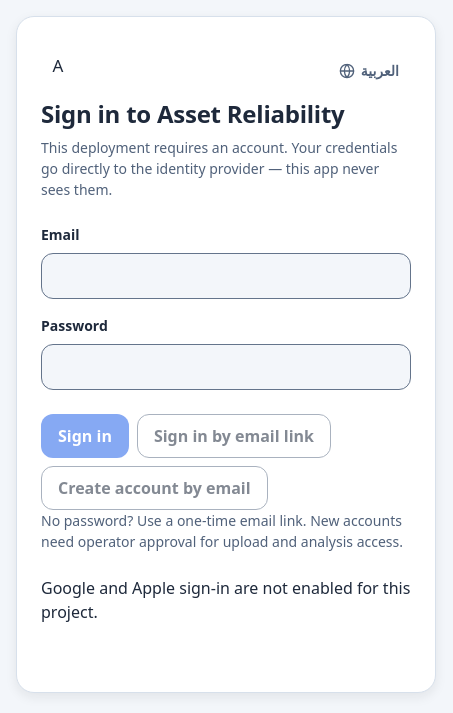
Test: managed SignIn › rejects unsuccessful responses (false)
In the field labelled "Email": [226, 276] box [41,252,411,298], type "analyst@example.com"
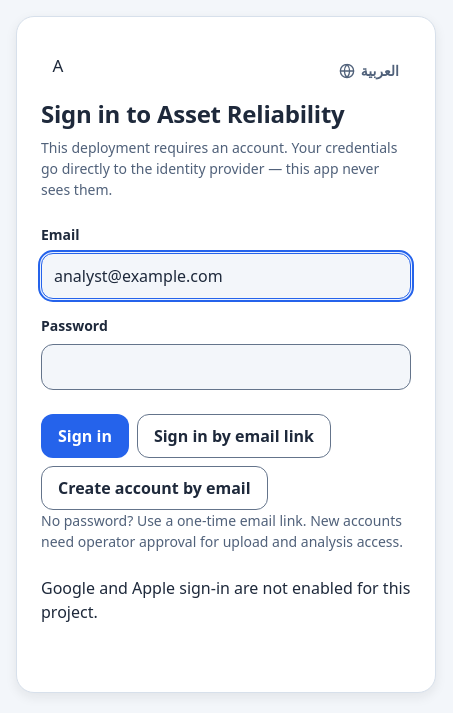
Click the button "Sign in": [85, 436] box [41,414,129,458]
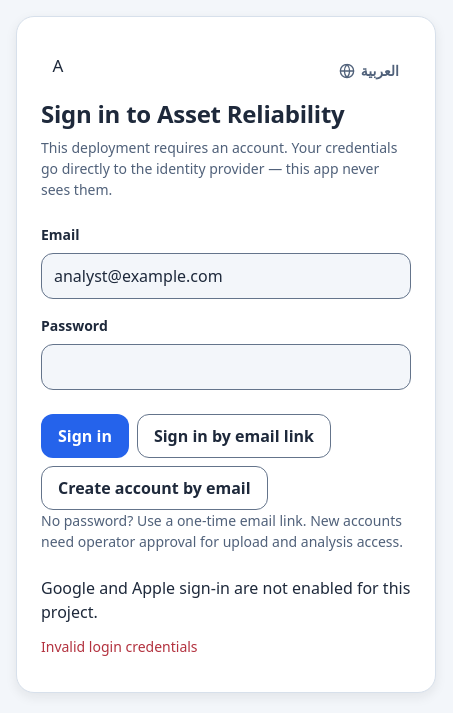
Result: the text "Invalid login credentials" is shown at [41,636,198,656]
